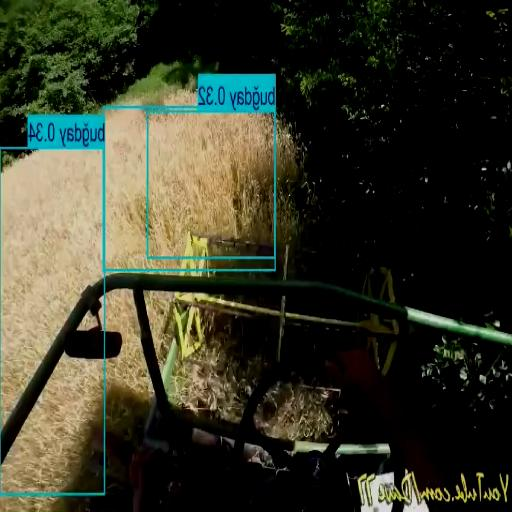bugday: (1, 152, 103, 424), (150, 115, 273, 253), (4, 361, 101, 491), (106, 109, 151, 267), (277, 124, 327, 246), (103, 291, 149, 396)
